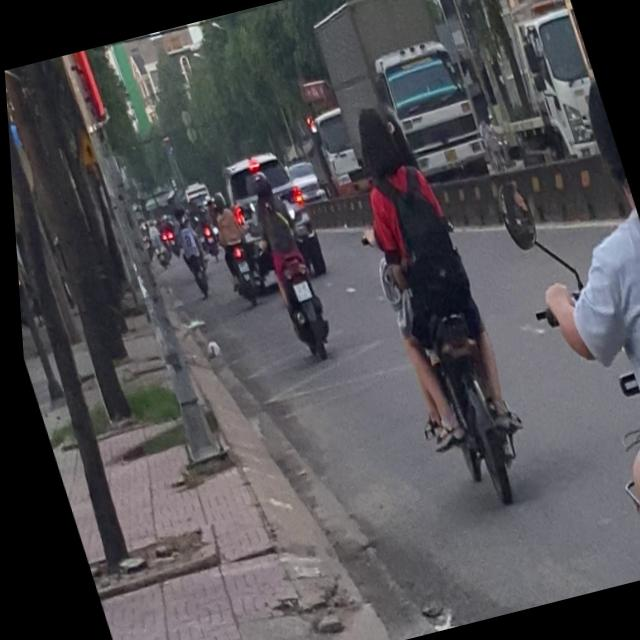licenseplate: (318, 86, 545, 524)
motorcyclist: (343, 98, 405, 186)
